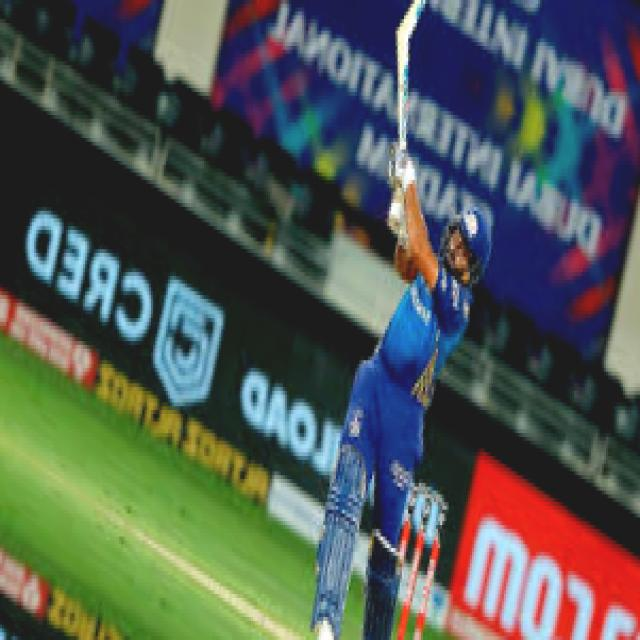toe: (394, 36, 409, 77)
